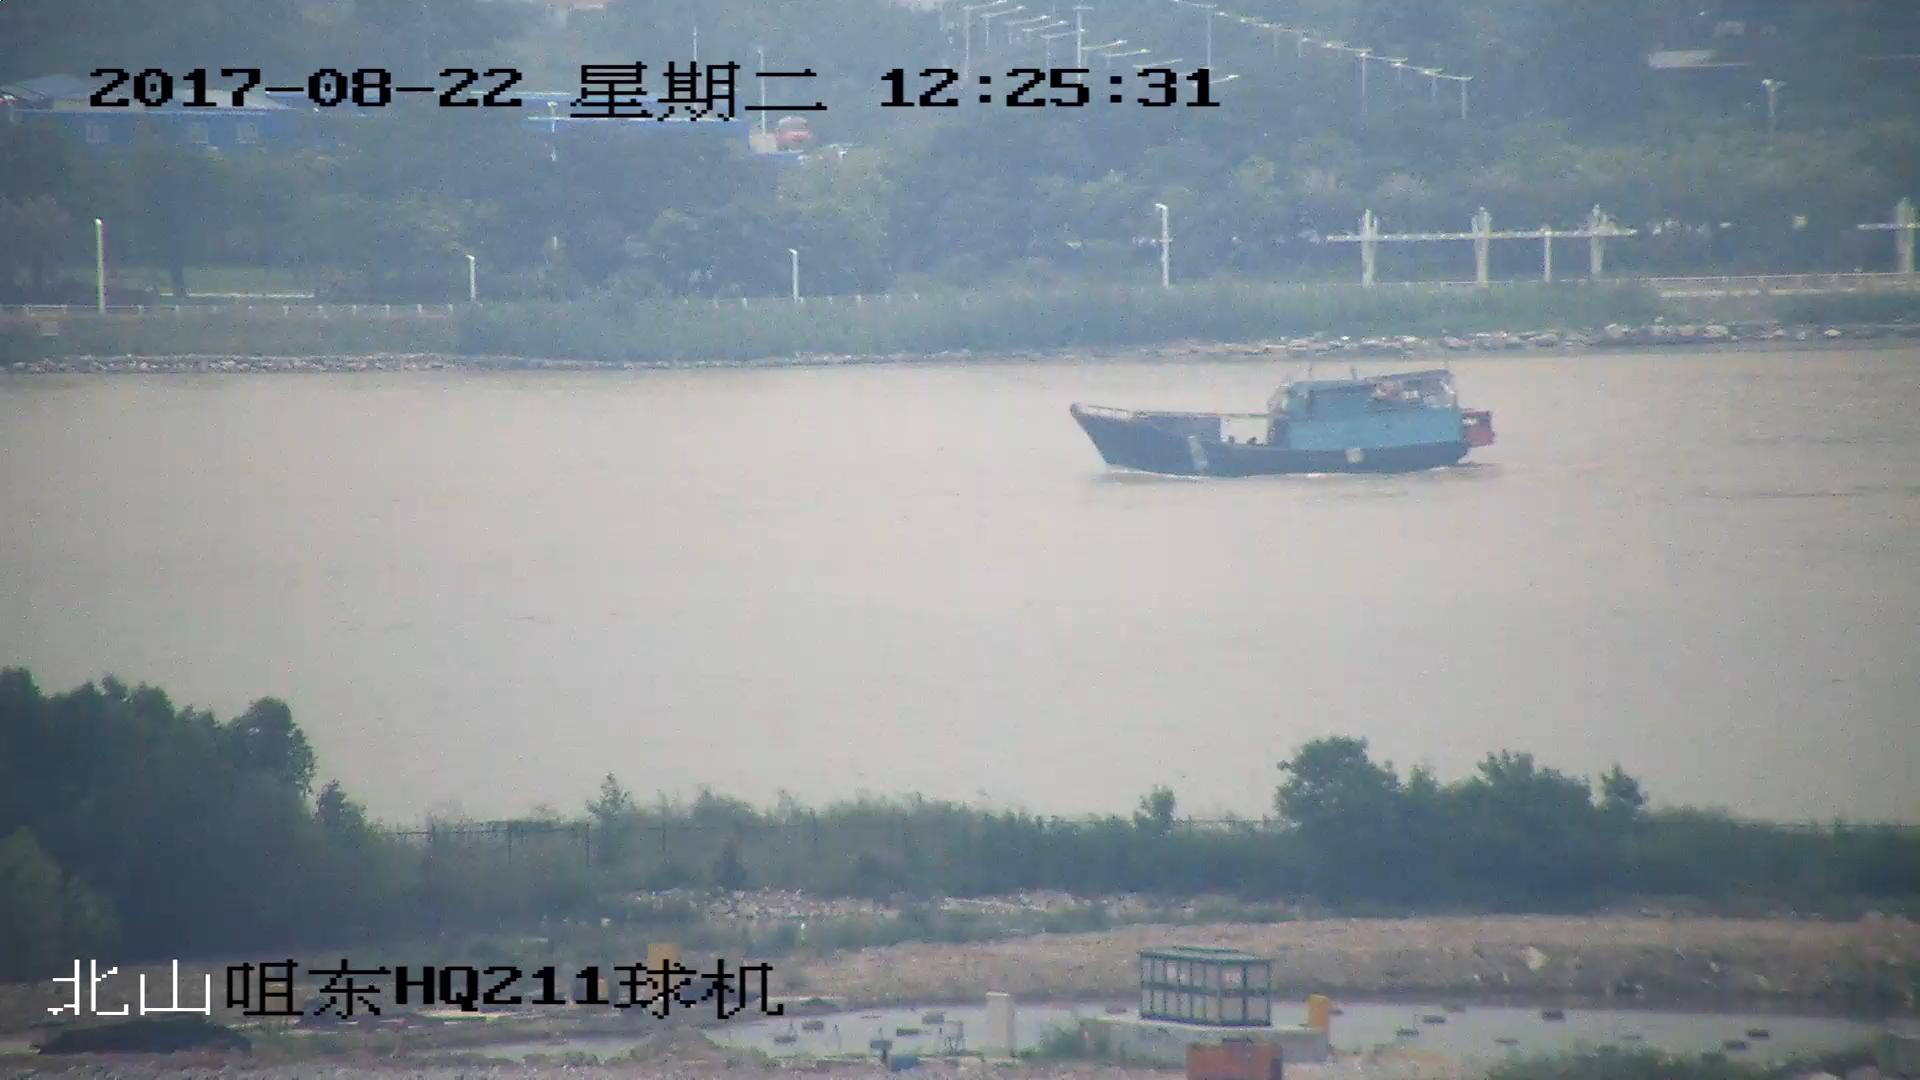fishing boat: (1073, 372, 1497, 474)
